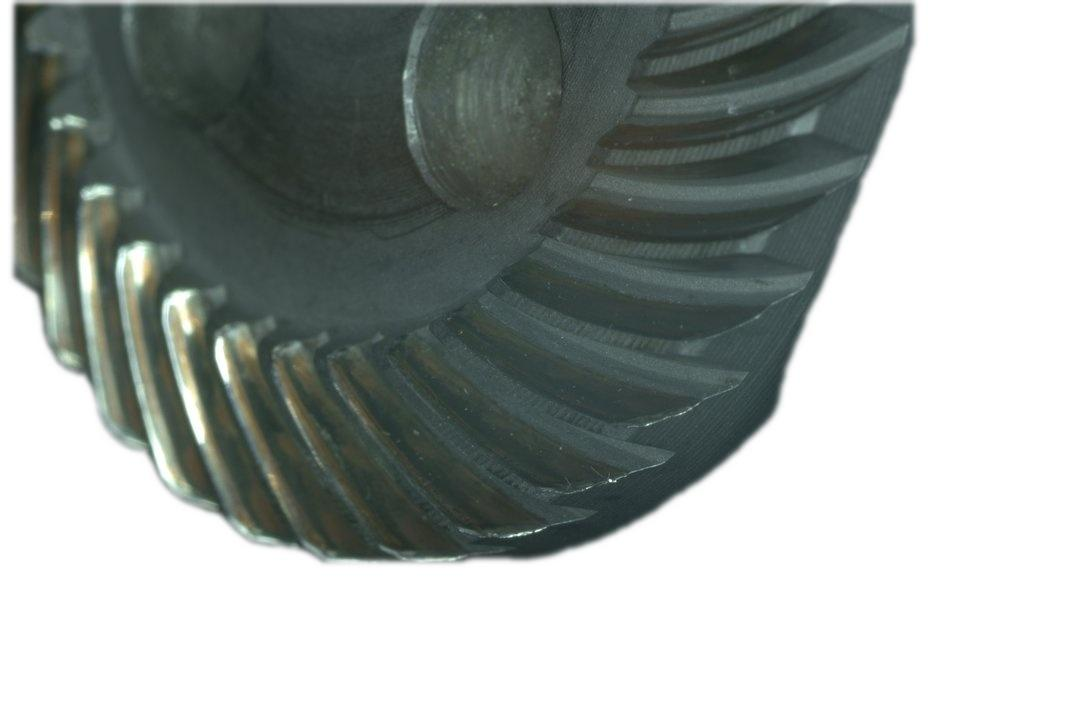defect: (321, 345, 542, 538), (272, 348, 457, 557), (389, 329, 619, 491), (213, 326, 348, 559), (106, 241, 195, 507), (161, 290, 256, 533), (75, 186, 131, 436), (36, 122, 73, 360)
